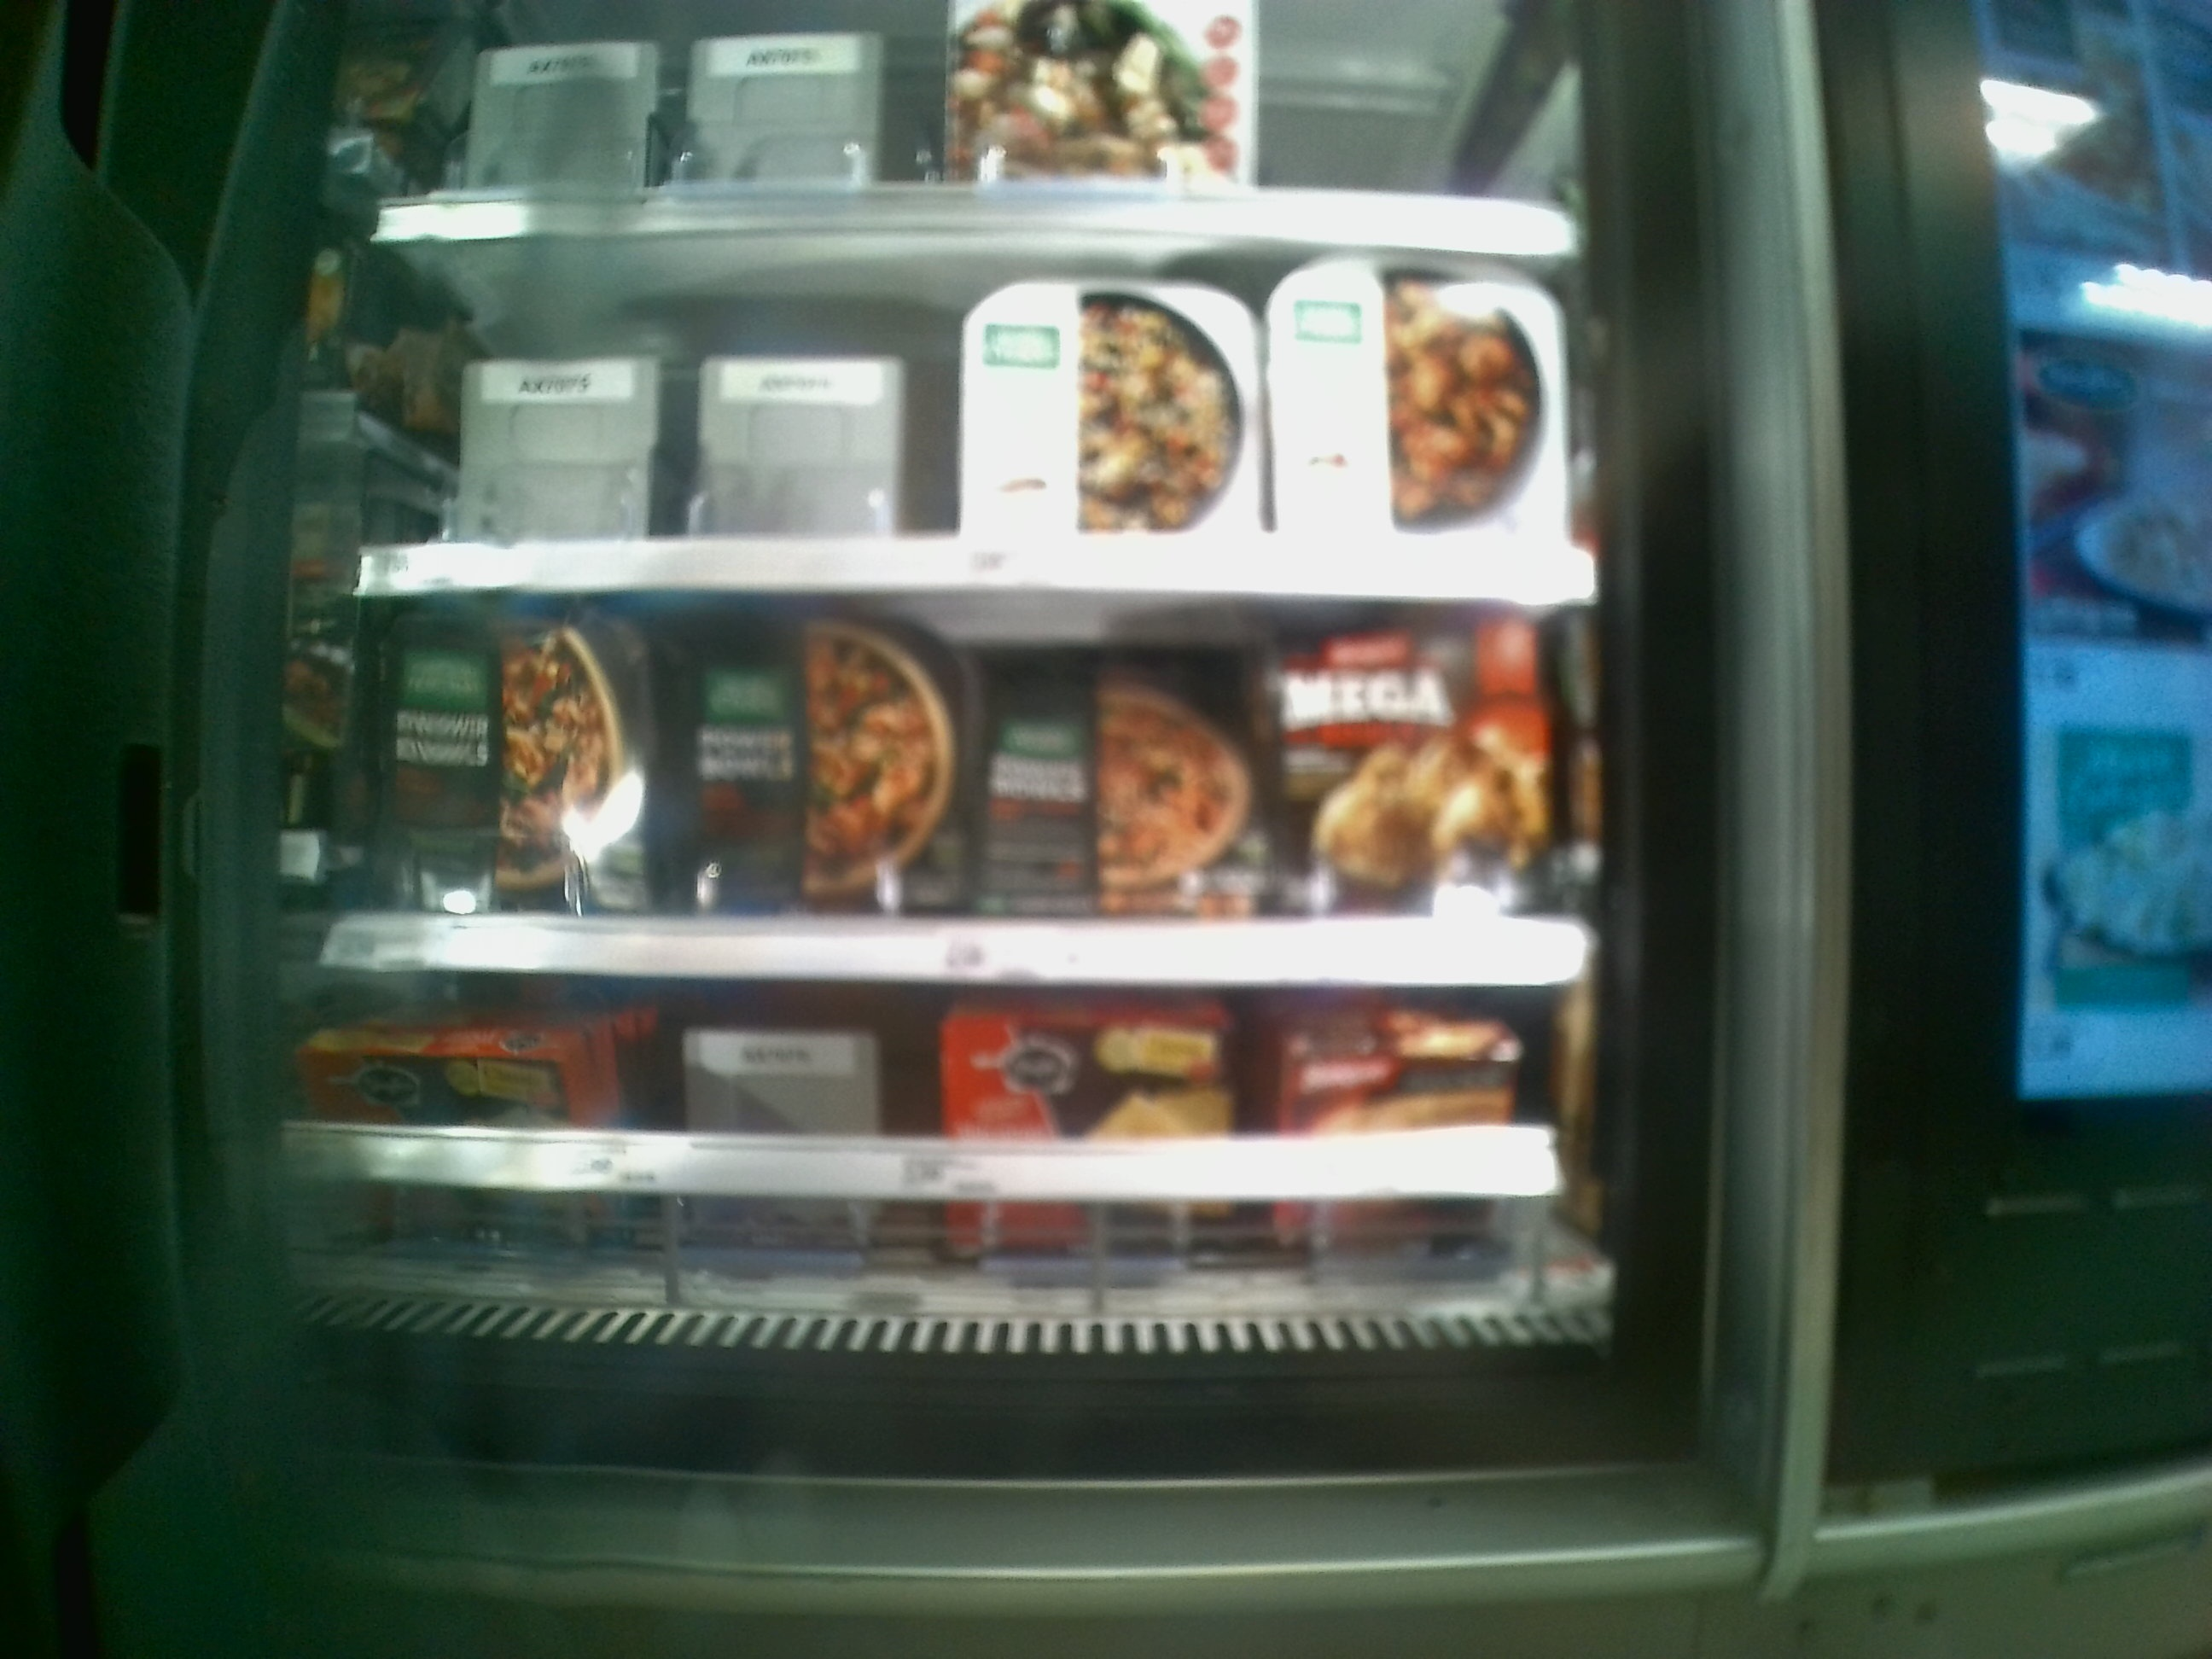shelf: (298, 978, 1622, 1361), (340, 596, 1595, 978), (350, 234, 1604, 603)
